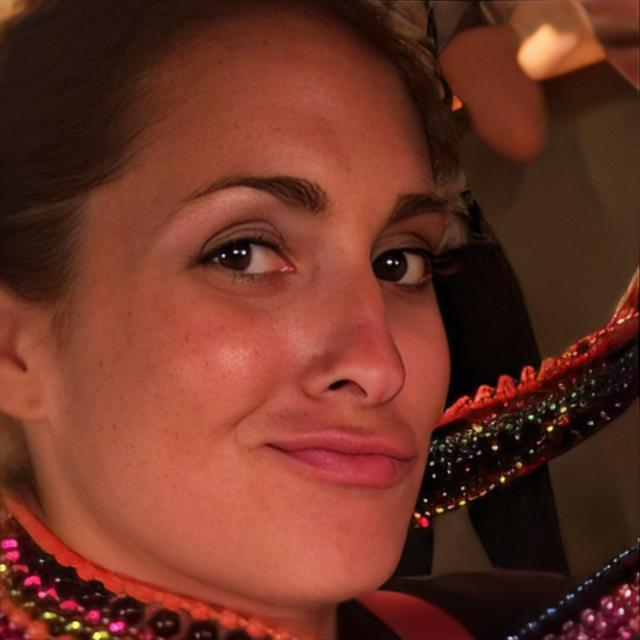content: (64, 0, 456, 602)
